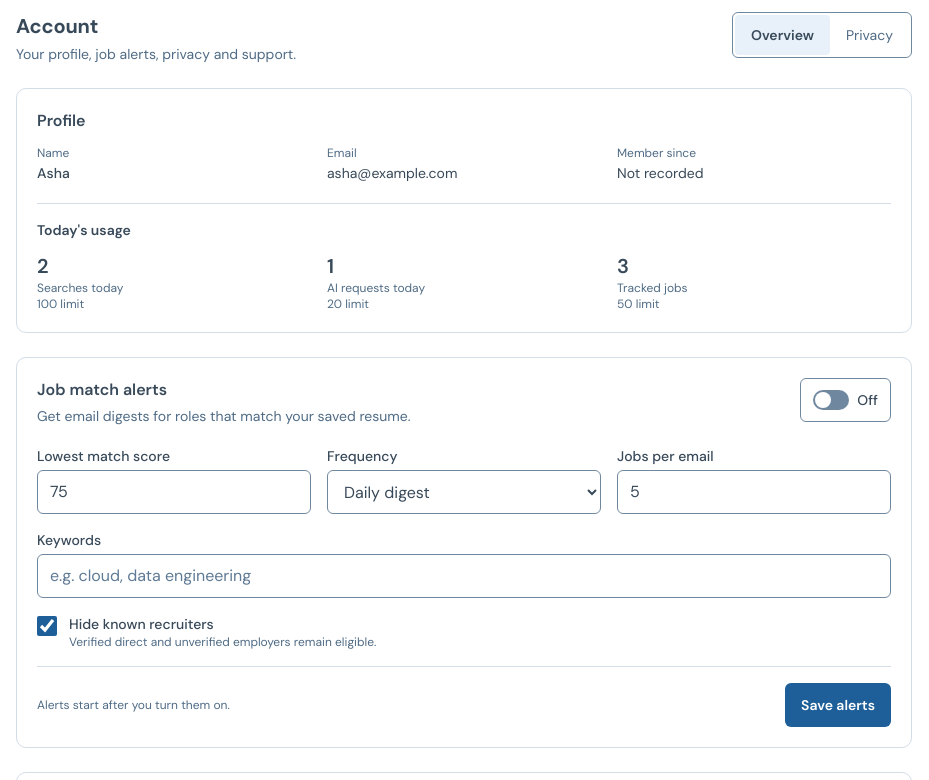
single account access › shows usage and privacy without exposing account tiers or plans
This screenshot has width=929, height=780.
Click the button "Privacy": (869, 35) [830,15,909,55]
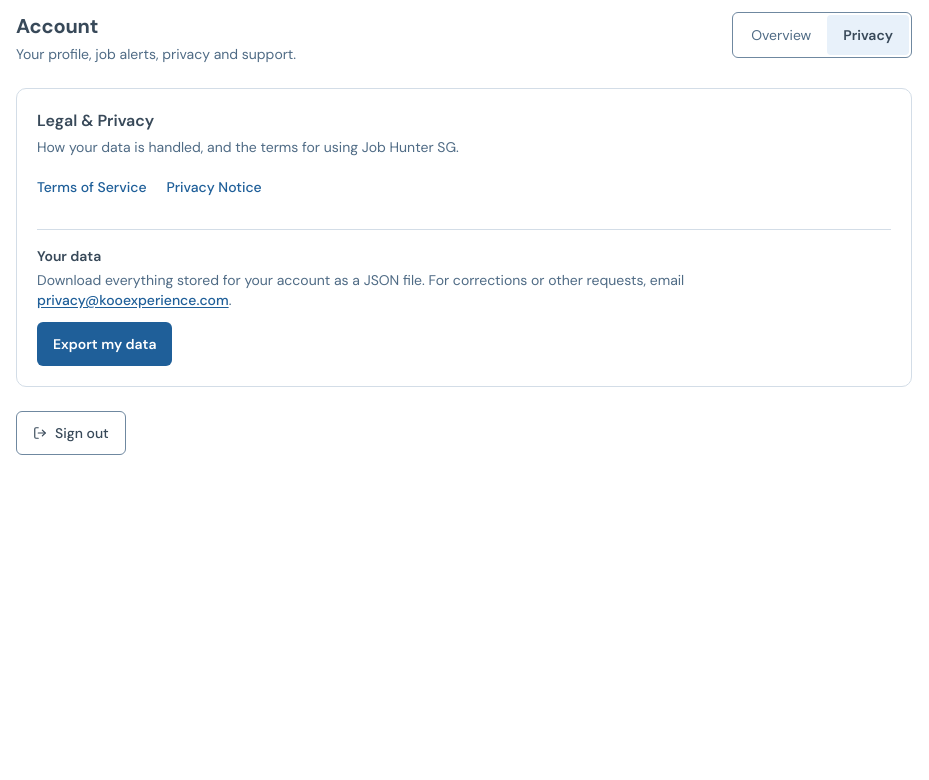
expect the text "Legal & Privacy" is shown: met, box [37,110,154,131]
